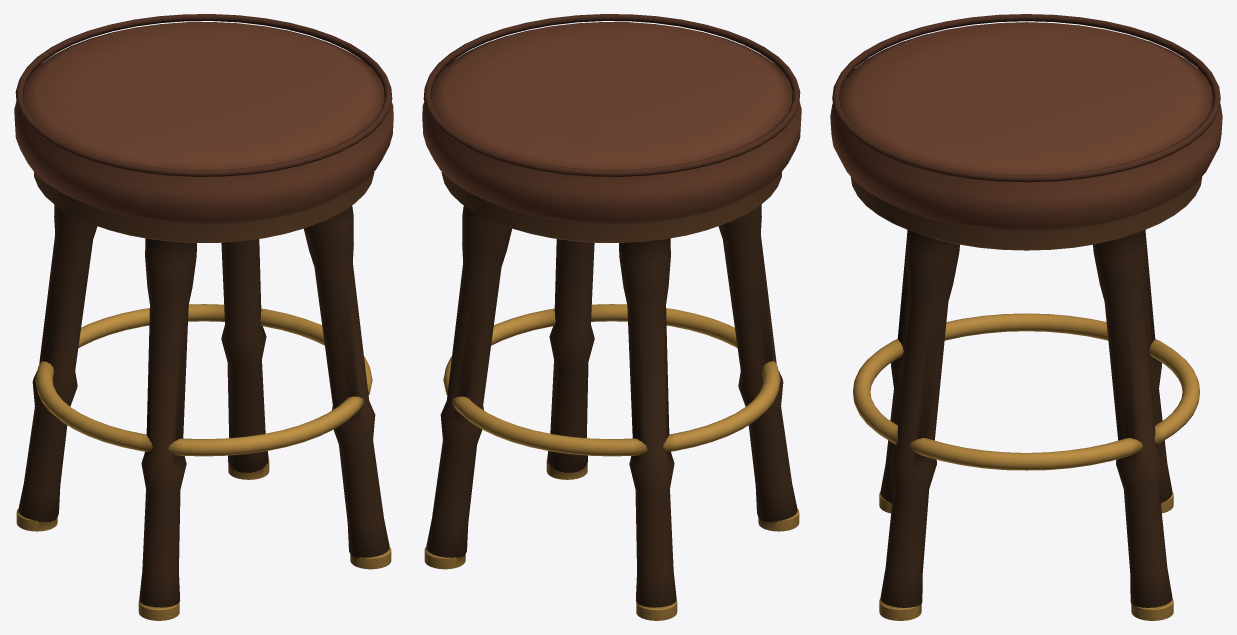
The model's file is stool.glb.
3 renders of one model, left to right at view 1: azimuth 30°, elevation 25°; view 2: azimuth 150°, elevation 25°; view 3: azimuth 270°, elevation 25°, orthographic. The views are drawn at different scales.
Parts seen in each view (by area): view 1: Cushion, Frame, Trim, Piping; view 2: Cushion, Frame, Trim, Piping; view 3: Cushion, Frame, Trim, Piping.
Part boxes in pixels (x1,y1,x2,y2): Cushion: (14, 22, 393, 221); Frame: (18, 172, 389, 607); Trim: (16, 304, 391, 620); Piping: (15, 14, 392, 176); Cushion: (422, 22, 801, 221); Frame: (426, 172, 797, 607); Trim: (424, 304, 799, 620); Piping: (423, 14, 800, 176); Cushion: (830, 22, 1222, 228); Frame: (850, 176, 1202, 607); Trim: (853, 313, 1199, 620); Piping: (832, 14, 1220, 182).
Size of the model in its own units: 0.3518 by 0.4666 by 0.3521.
Materials: 3 (1 with a texture image).
